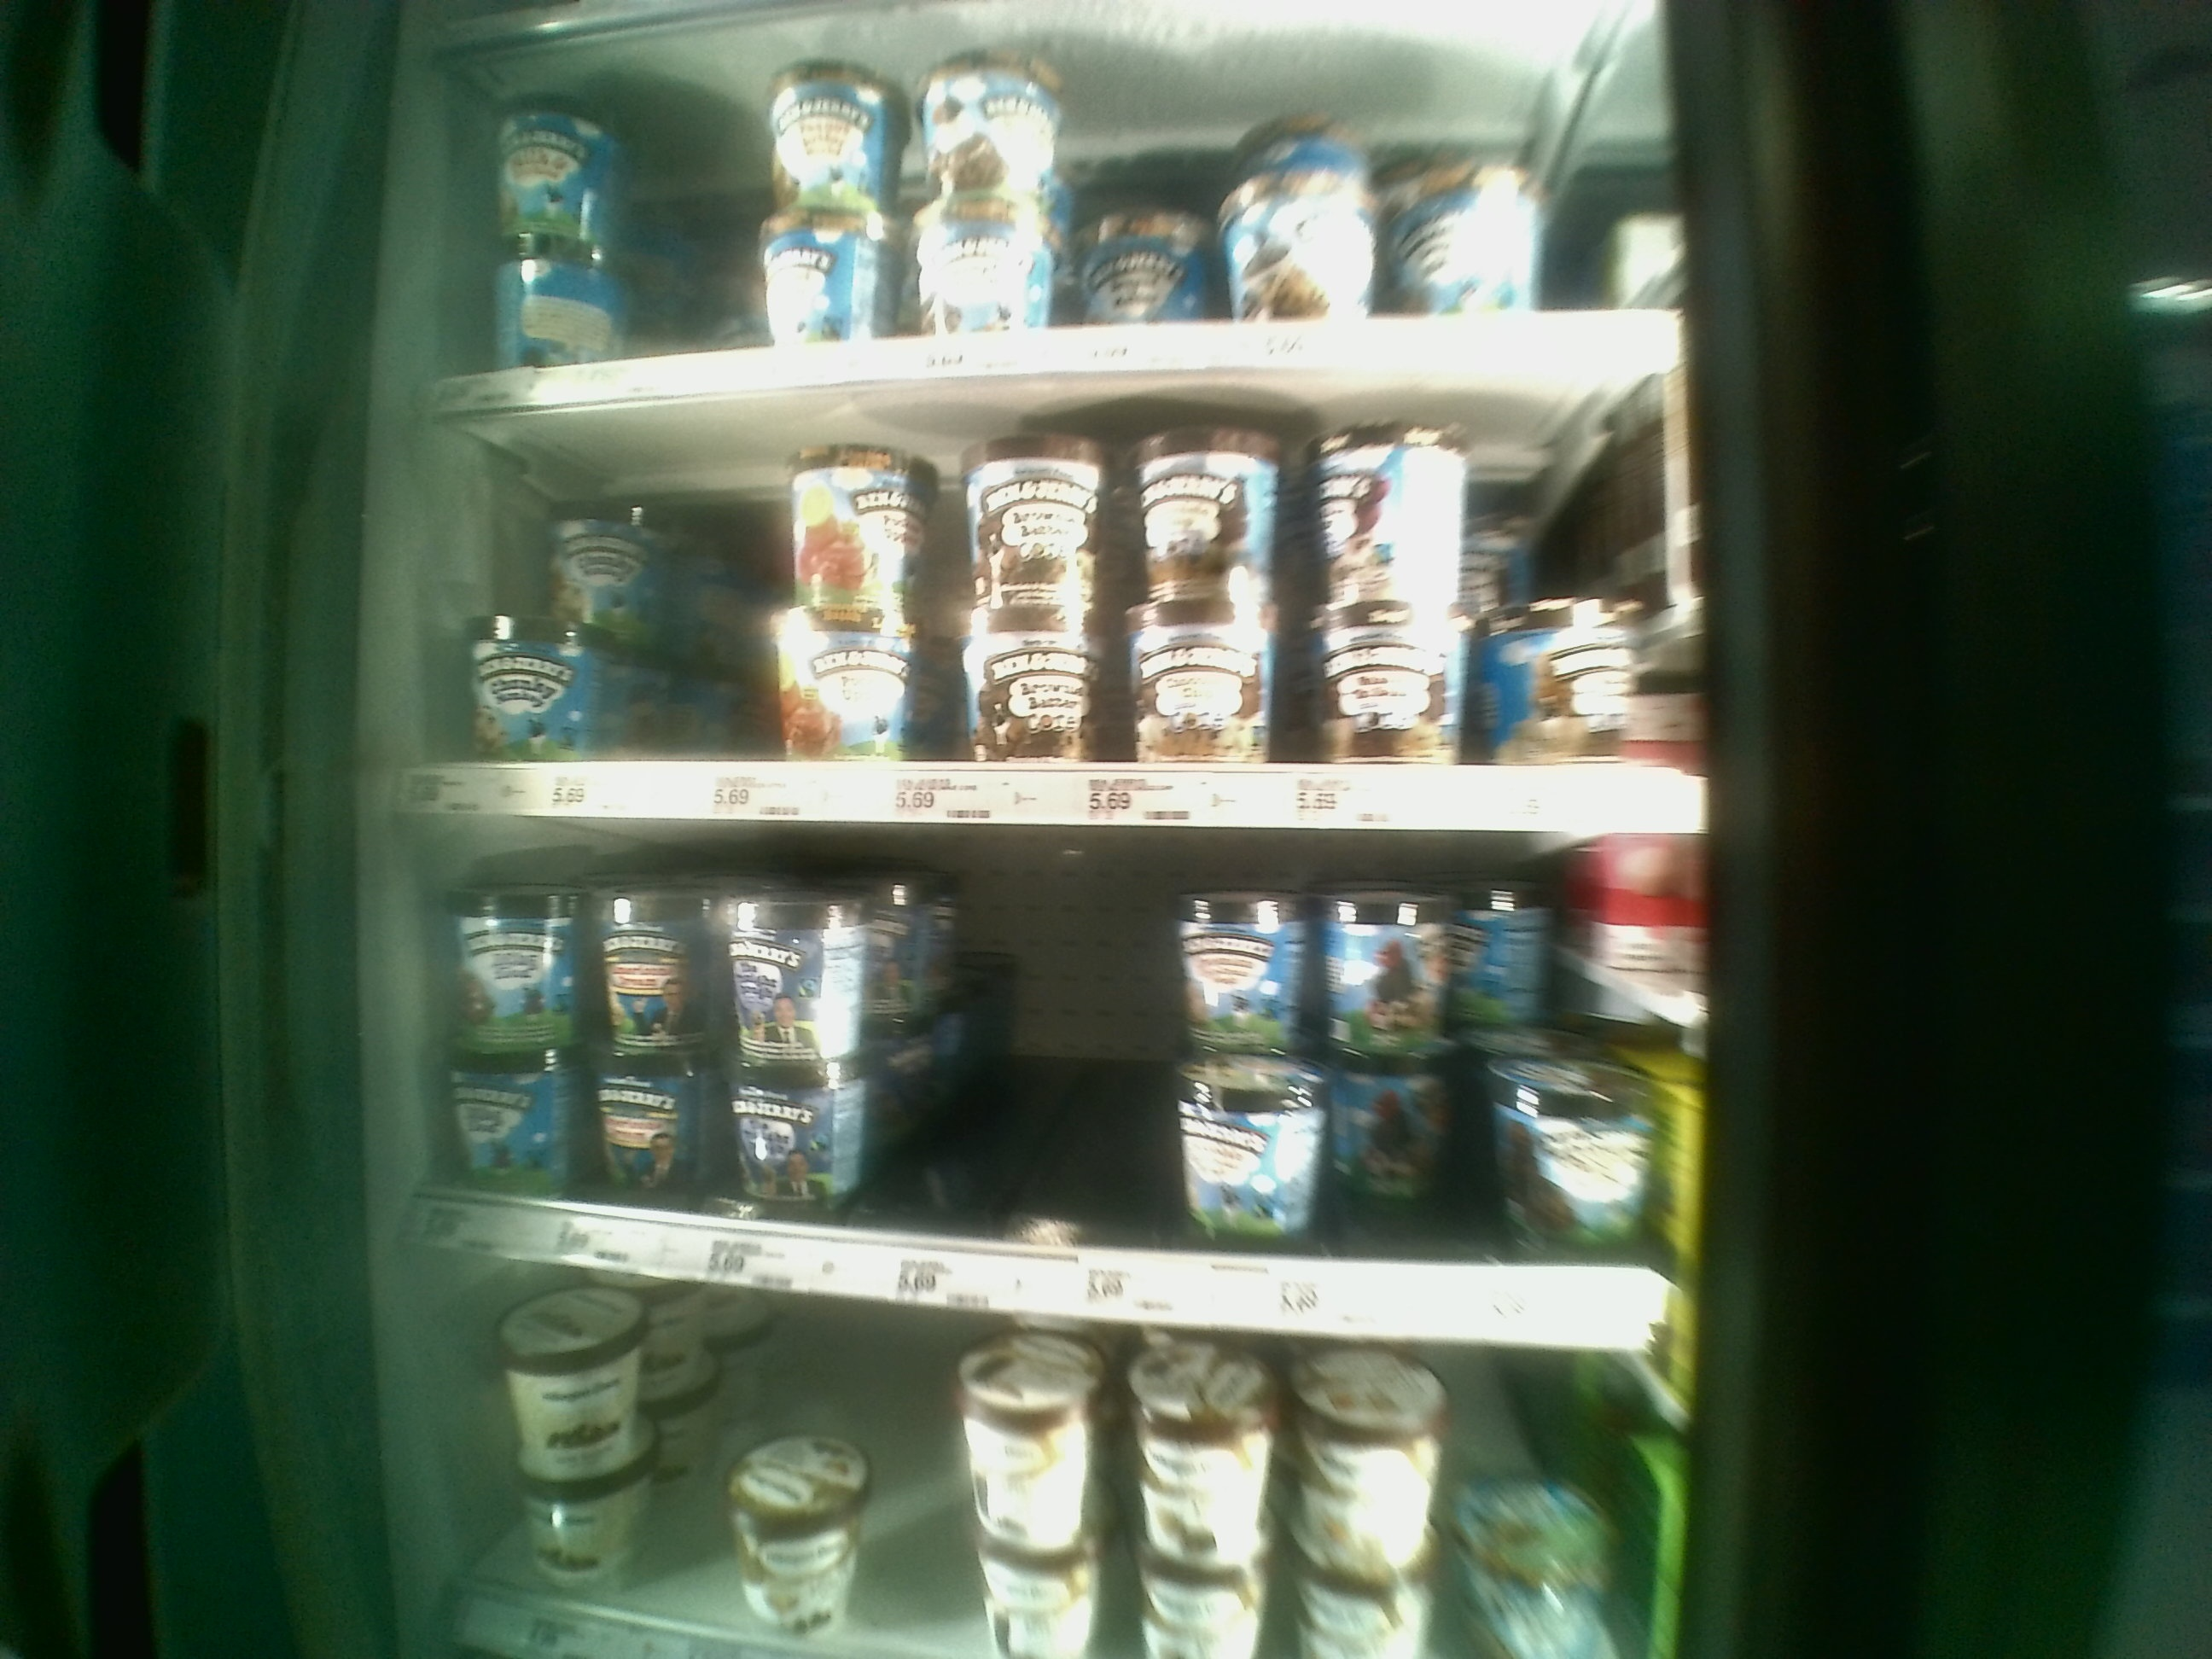shelf: (406, 817, 1700, 1344), (411, 404, 1703, 819)
